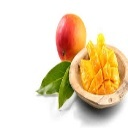mango: (55, 13, 86, 60)
